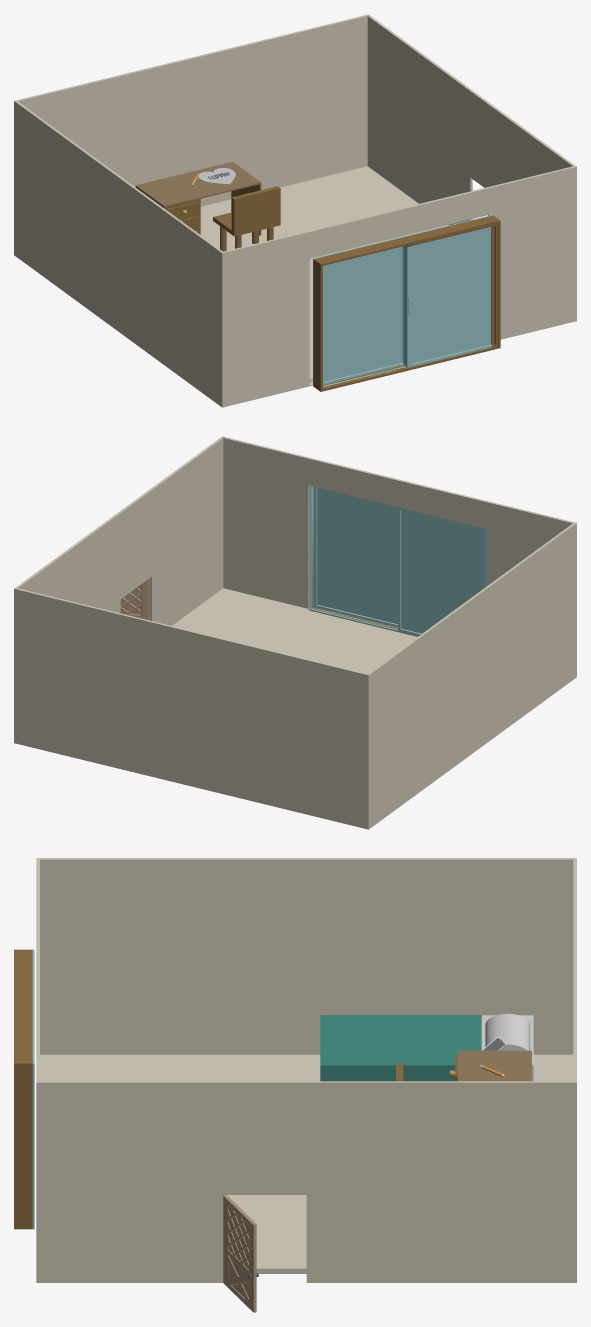
3 views of the same model, one above another, from view 1: azimuth 30°, elevation 25°; view 2: azimuth 150°, elevation 25°; view 3: azimuth 270°, elevation 25° (orthographic). The views are drawn at different scales.
Parts seen in each view (by area): view 1: Mesh_Mesh_head_geo.001_lambert2SG.001; view 2: Mesh_Mesh_head_geo.001_lambert2SG.001; view 3: Mesh_Mesh_head_geo.001_lambert2SG.001.
Part boxes in pixels (bbox=[...]): Mesh_Mesh_head_geo.001_lambert2SG.001: bbox=[14, 14, 576, 407]; Mesh_Mesh_head_geo.001_lambert2SG.001: bbox=[14, 436, 576, 829]; Mesh_Mesh_head_geo.001_lambert2SG.001: bbox=[14, 858, 576, 1312].
Size of the model in its own units: 0.2042 by 0.075 by 0.191.
